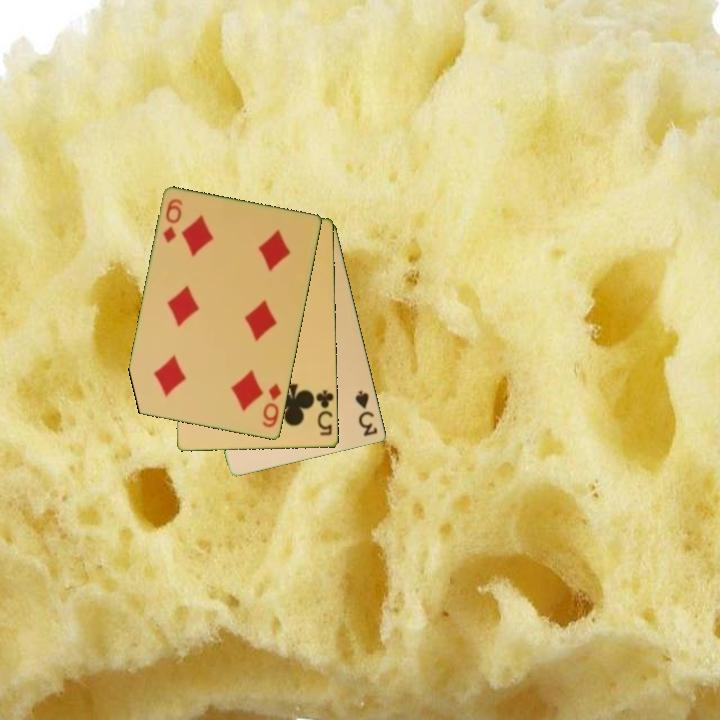3s: (352, 387, 381, 439)
5c: (313, 387, 336, 439)
6d: (259, 380, 285, 431), (160, 195, 185, 246)
